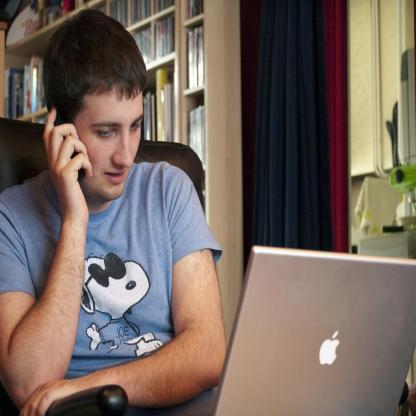board: (215, 246, 416, 416)
